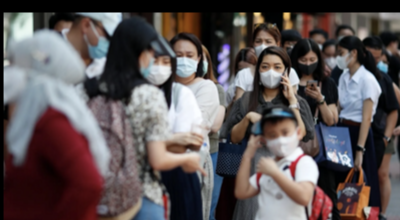with_mask: (86, 23, 112, 61), (265, 128, 297, 157), (146, 56, 172, 85), (259, 61, 286, 88), (174, 49, 198, 77), (253, 37, 277, 58), (297, 55, 319, 75), (337, 50, 353, 69), (323, 52, 338, 69), (377, 59, 389, 73)
